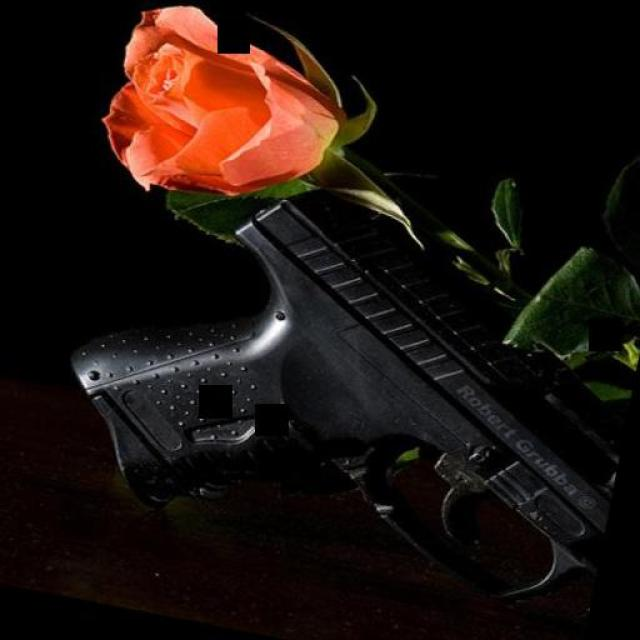gun: (31, 159, 640, 610)
